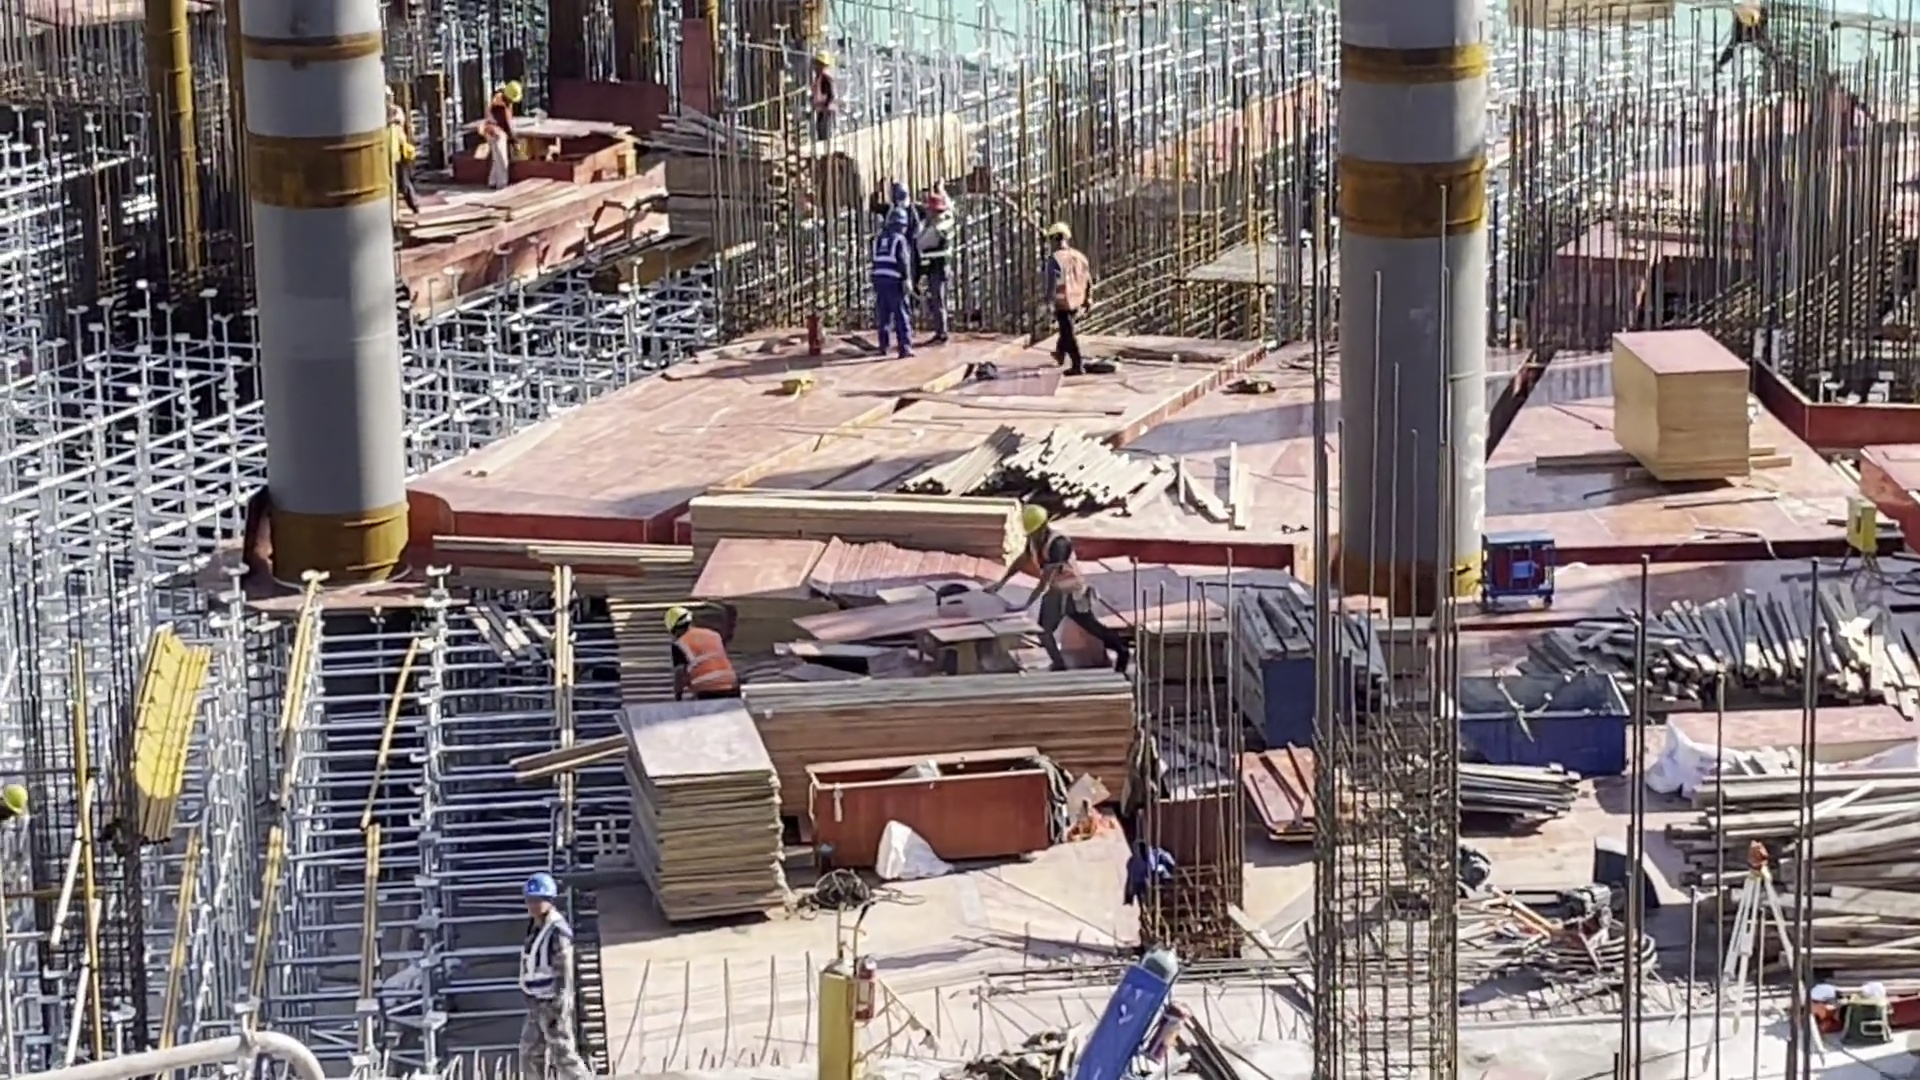board: (625, 704, 793, 923), (1608, 329, 1742, 482), (691, 531, 821, 651), (1239, 747, 1323, 852)
cutter: (862, 575, 1035, 678), (504, 110, 635, 185)
ebox: (1841, 498, 1886, 586)
helmet: (519, 870, 562, 900), (1014, 506, 1046, 542), (663, 606, 700, 637), (923, 193, 950, 214), (501, 81, 523, 104), (887, 205, 908, 225), (888, 184, 911, 201)
hopper: (1465, 672, 1630, 783)
person: (1006, 505, 1101, 674), (513, 869, 584, 1080), (660, 605, 742, 706), (1043, 226, 1093, 382), (869, 219, 915, 366), (918, 196, 953, 341), (481, 80, 524, 193), (1704, 1, 1771, 63), (384, 88, 416, 210), (802, 48, 836, 148), (864, 176, 920, 227)
vest: (523, 911, 576, 1005), (1031, 533, 1096, 600), (682, 634, 731, 695), (1048, 251, 1094, 309), (867, 229, 906, 283), (916, 221, 956, 276), (484, 94, 511, 141)
wood: (1670, 742, 1920, 979), (1512, 588, 1920, 711), (891, 420, 1247, 533), (745, 682, 1143, 768), (681, 481, 1020, 556), (660, 111, 794, 253), (814, 102, 981, 192), (1505, 1, 1685, 33)
